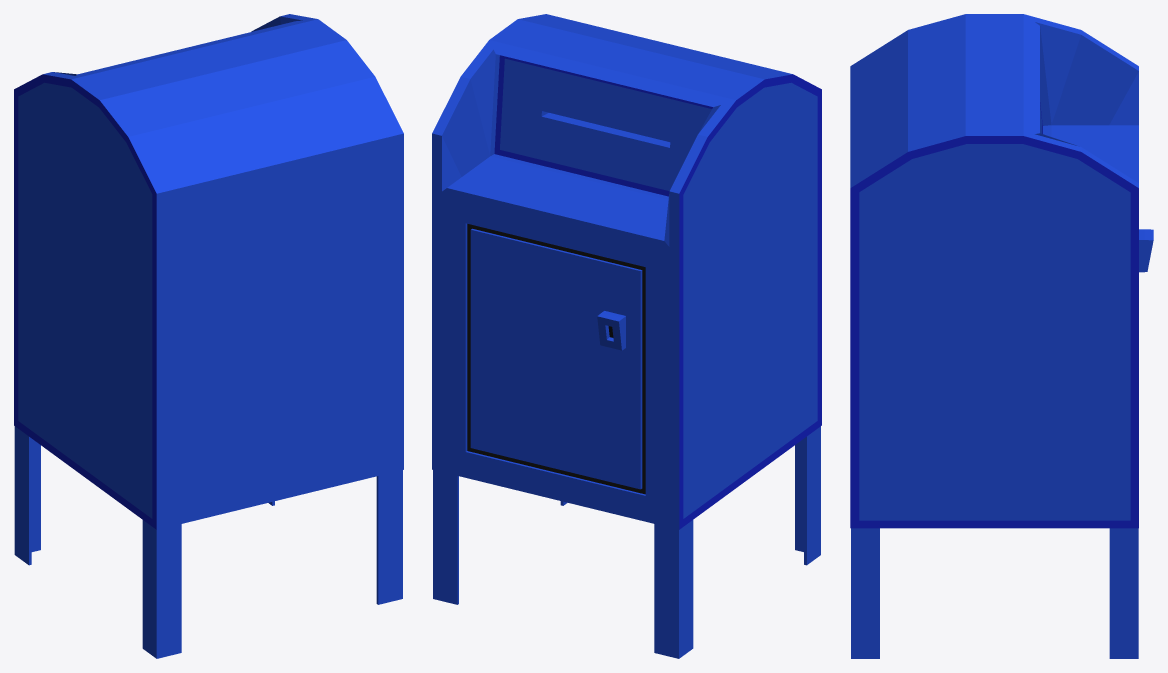
Rendered from MailBox.FBX.
3 renders of one model, left to right at view 1: azimuth 30°, elevation 25°; view 2: azimuth 150°, elevation 25°; view 3: azimuth 270°, elevation 25°, orthographic.
Visible parts, largest first — view 1: Box001; view 2: Box001; view 3: Box001.
Boxes of the visible parts, x1,y1,x2,y2 form: Box001: (14, 14, 403, 658); Box001: (432, 14, 821, 658); Box001: (850, 14, 1153, 658).
Bounding box in the file's own units: 50 × 100 × 52.53.
